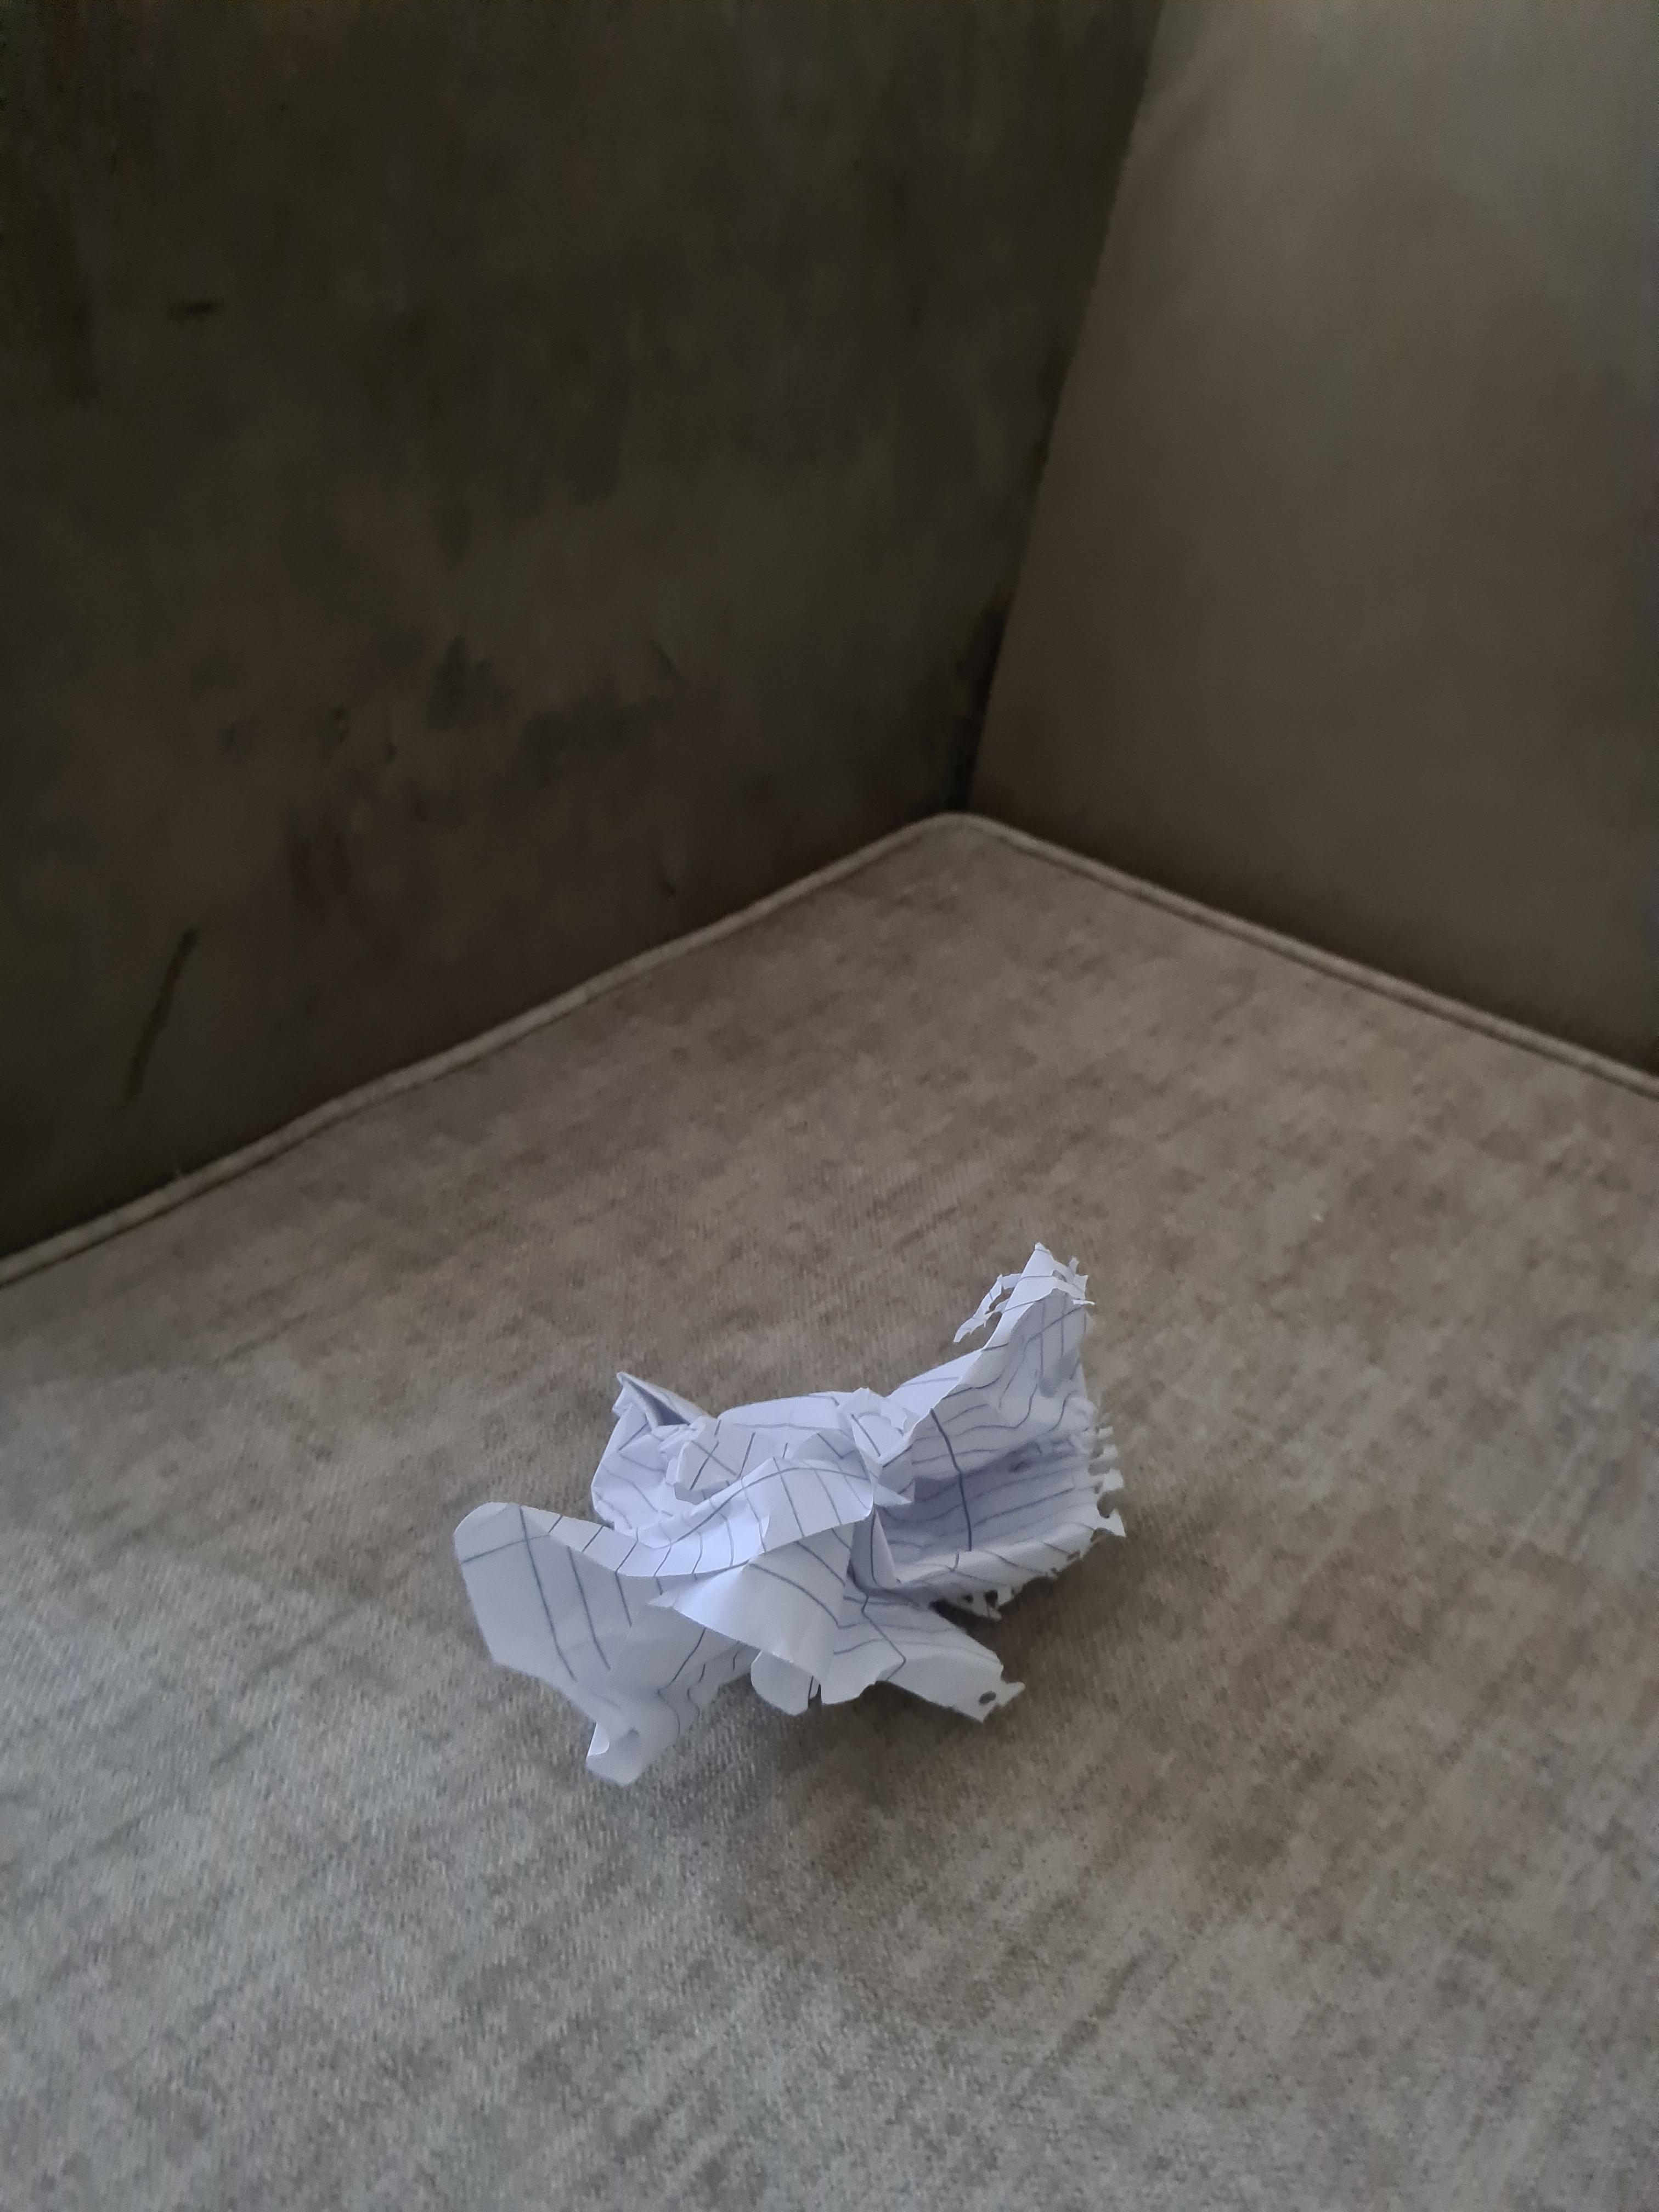Paper: (445, 1241, 1138, 1818)
